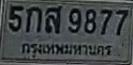5: (8, 5, 23, 31)
7: (100, 8, 112, 34), (115, 9, 127, 35)
8: (84, 8, 96, 33)
9: (67, 7, 80, 32)
A01: (25, 5, 41, 32)
A40: (44, 5, 61, 33)
BKK: (17, 39, 114, 59)
